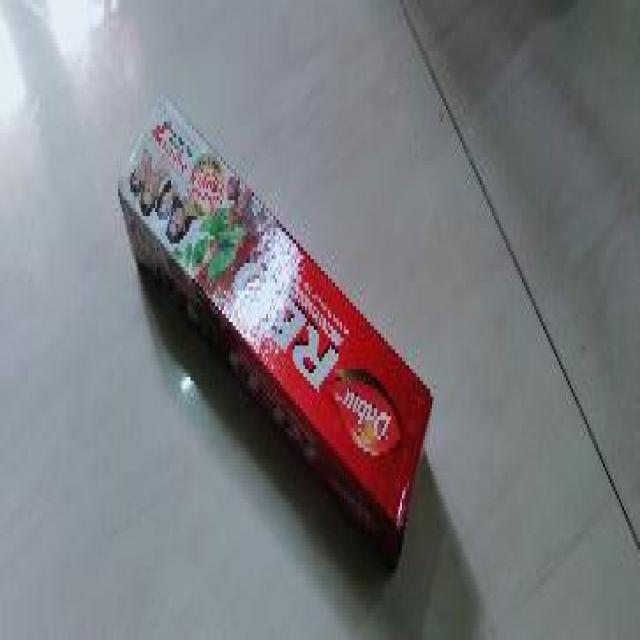tooth paste: (120, 101, 434, 579)
